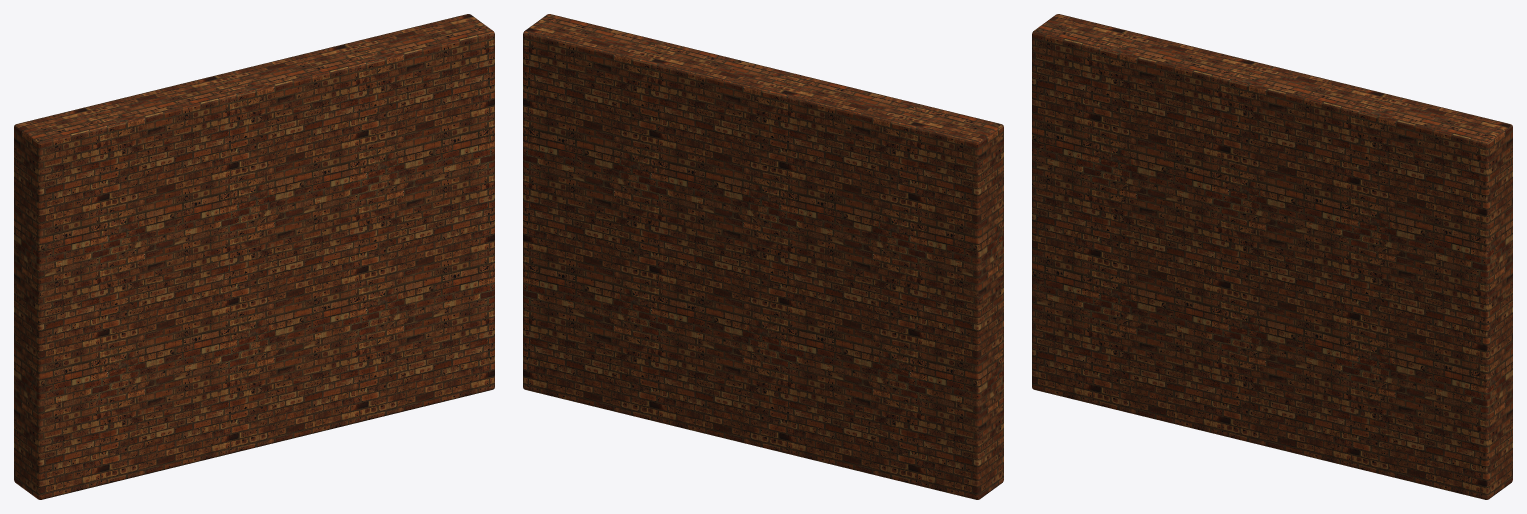
The model's file is wall.glb.
3 views of the same model, side by side, from view 1: azimuth 30°, elevation 25°; view 2: azimuth 150°, elevation 25°; view 3: azimuth 330°, elevation 25° (orthographic).
Parts seen in each view (by area): view 1: MODULE_wall; view 2: MODULE_wall; view 3: MODULE_wall.
Boxes of the visible parts, x1,y1,x2,y2 form: MODULE_wall: [14, 14, 494, 499]; MODULE_wall: [523, 14, 1003, 499]; MODULE_wall: [1032, 14, 1512, 499].
Size of the model in its own units: 6 by 4.5 by 0.6.
1 material, 1 textured.
